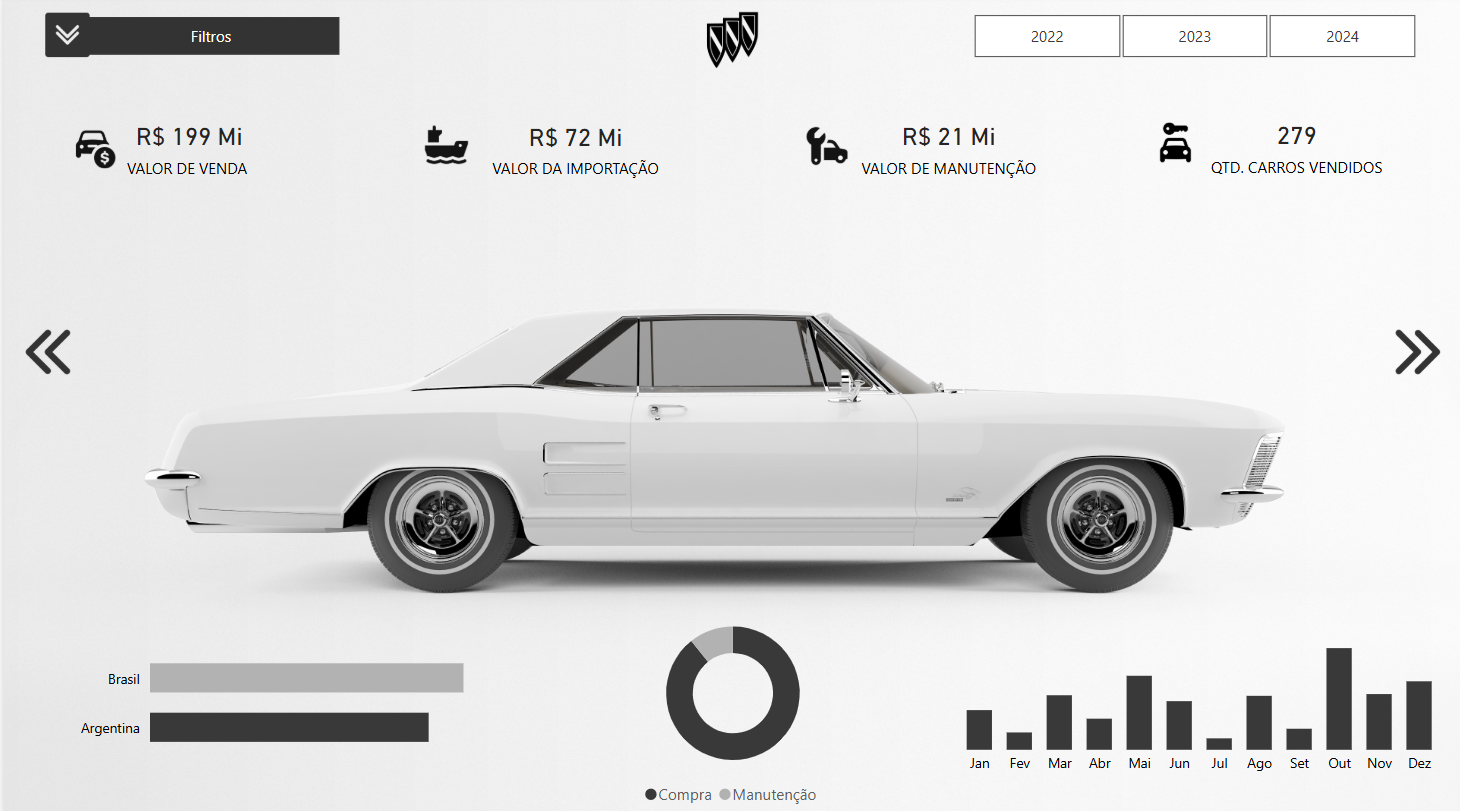

This screenshot's page, from the dashboard's own definition file:
{"tool":"powerbi","page":{"name":"Buick Riviera","canvas":[1280,720],"ordinal":3},"visuals":[{"type":"image","box":[604,0,72,72],"z":0},{"type":"clusteredColumnChart","fields":{"Y":["Sum(CONSOLIDADA.VALOR DO PEDIDO)"],"Category":["CONSOLIDADA.DATA COMPRA DO PEDIDO - MÊS"]},"box":[826,534,447,158],"z":1000},{"type":"slicer","fields":{"Values":["CONSOLIDADA.DATA COMPRA DO PEDIDO.Variation.Hierarquia de datas.Ano"]},"box":[826,10,437,51],"z":2000},{"type":"donutChart","fields":{"Category":["CONSOLIDADA.TIPO DE SERVIÇO"],"Y":["Sum(CONSOLIDADA.VALOR DO PEDIDO)"]},"box":[439,534,402,186],"z":3000},{"type":"barChart","fields":{"Category":["CONSOLIDADA.PAÍS DO PEDIDO"],"Y":["CountNonNull(CONSOLIDADA.ID DO PEDIDO)"]},"box":[56.2,533.9,382.8,167.7],"z":4000},{"type":"image","box":[1203,273,77,78],"z":5000},{"type":"image","box":[0,273,77,78],"z":6000},{"type":"card","fields":{"Values":["MEDIDAS.VALOR DO PEDIDO FORMATADO"]},"box":[740.8,88,177,87.5],"z":6500},{"type":"image","box":[697,106.4,50.6,50.6],"z":6750},{"type":"image","box":[363.4,106.4,49.6,49.6],"z":6812},{"type":"card","fields":{"Values":["MEDIDAS.VALOR DA IMPORTAÇÃO ORMATADO"]},"box":[407,88,189,88],"z":6875},{"type":"card","fields":{"Values":["MEDIDAS.VALOR DE VENDA FORMATADO"]},"box":[81.7,87.4,162.4,87.5],"z":6906},{"type":"card","fields":{"Values":["Sum(CONSOLIDADA.QUANTIDADE DE CARROS)"]},"box":[1039.9,98.1,190.6,65.4],"z":6913},{"type":"image","box":[1003.9,106,49.6,49.6],"z":6921},{"type":"image","box":[51.6,105.9,51.6,49.6],"z":6937},{"type":"shape","box":[69.4,18.4,224.8,33.4],"z":7000},{"type":"image","box":[27,10,57,49],"z":8000}]}

Visuals, with their boxes in screenshot pixels (x1, y1, x2, y2), scaled from the page's 1280x720 canvas onto the 1460x811 screenshot:
image: bbox=[689, 0, 771, 81]
clusteredColumnChart - Sum(CONSOLIDADA.VALOR DO PEDIDO) x CONSOLIDADA.DATA COMPRA DO PEDIDO - MÊS: bbox=[942, 601, 1452, 779]
slicer - CONSOLIDADA.DATA COMPRA DO PEDIDO.Variation.Hierarquia de datas.Ano: bbox=[942, 11, 1441, 69]
donutChart - CONSOLIDADA.TIPO DE SERVIÇO x Sum(CONSOLIDADA.VALOR DO PEDIDO): bbox=[501, 601, 959, 810]
barChart - CONSOLIDADA.PAÍS DO PEDIDO x CountNonNull(CONSOLIDADA.ID DO PEDIDO): bbox=[64, 601, 501, 790]
image: bbox=[1372, 308, 1459, 395]
image: bbox=[0, 308, 88, 395]
card - MEDIDAS.VALOR DO PEDIDO FORMATADO: bbox=[845, 99, 1047, 198]
image: bbox=[795, 120, 853, 177]
image: bbox=[415, 120, 471, 176]
card - MEDIDAS.VALOR DA IMPORTAÇÃO ORMATADO: bbox=[464, 99, 680, 198]
card - MEDIDAS.VALOR DE VENDA FORMATADO: bbox=[93, 98, 278, 197]
card - Sum(CONSOLIDADA.QUANTIDADE DE CARROS): bbox=[1186, 110, 1404, 184]
image: bbox=[1145, 119, 1202, 175]
image: bbox=[59, 119, 118, 175]
shape: bbox=[79, 21, 336, 58]
image: bbox=[31, 11, 96, 66]
